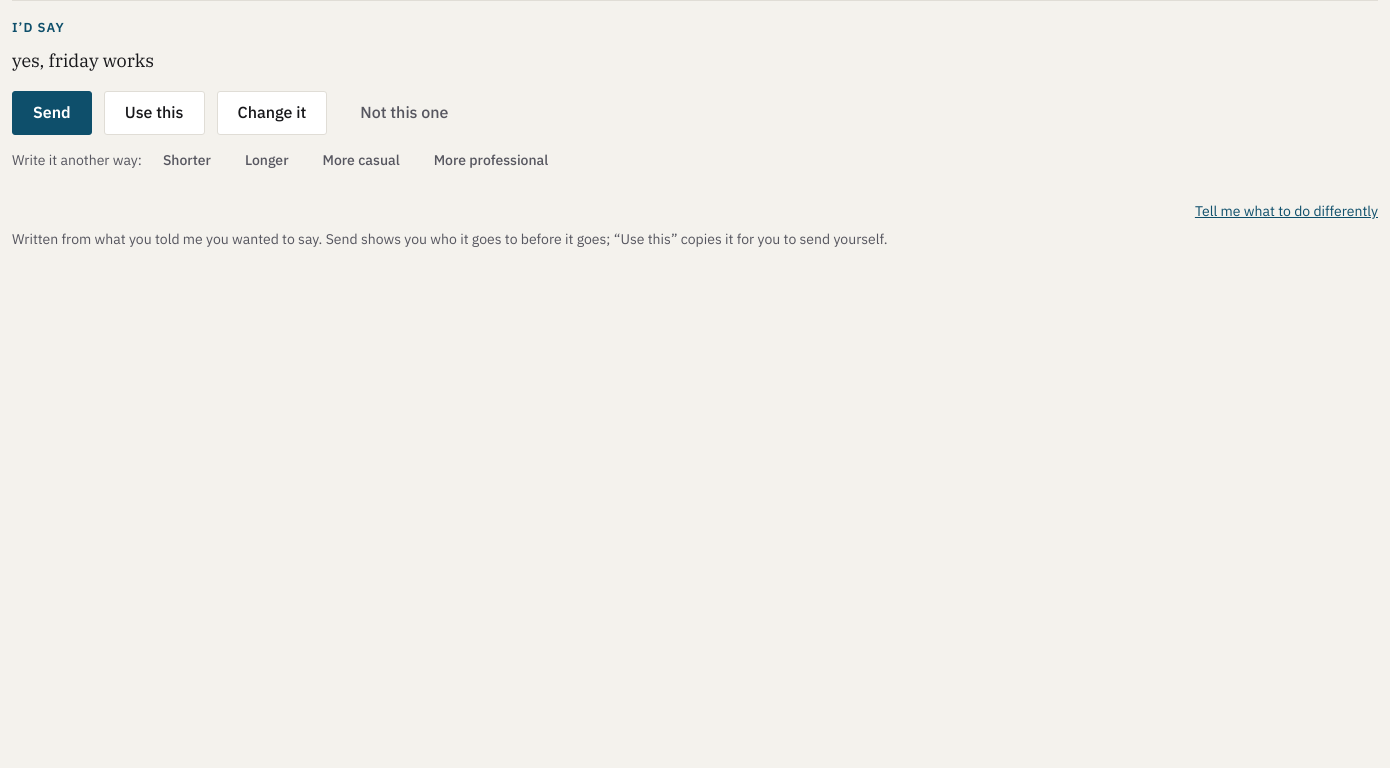
Test: sending a reply from Mimic › starts from the mailbox's own choice not to quote
Click the button "Send".
click(52, 113)  # box [12,91,92,135]
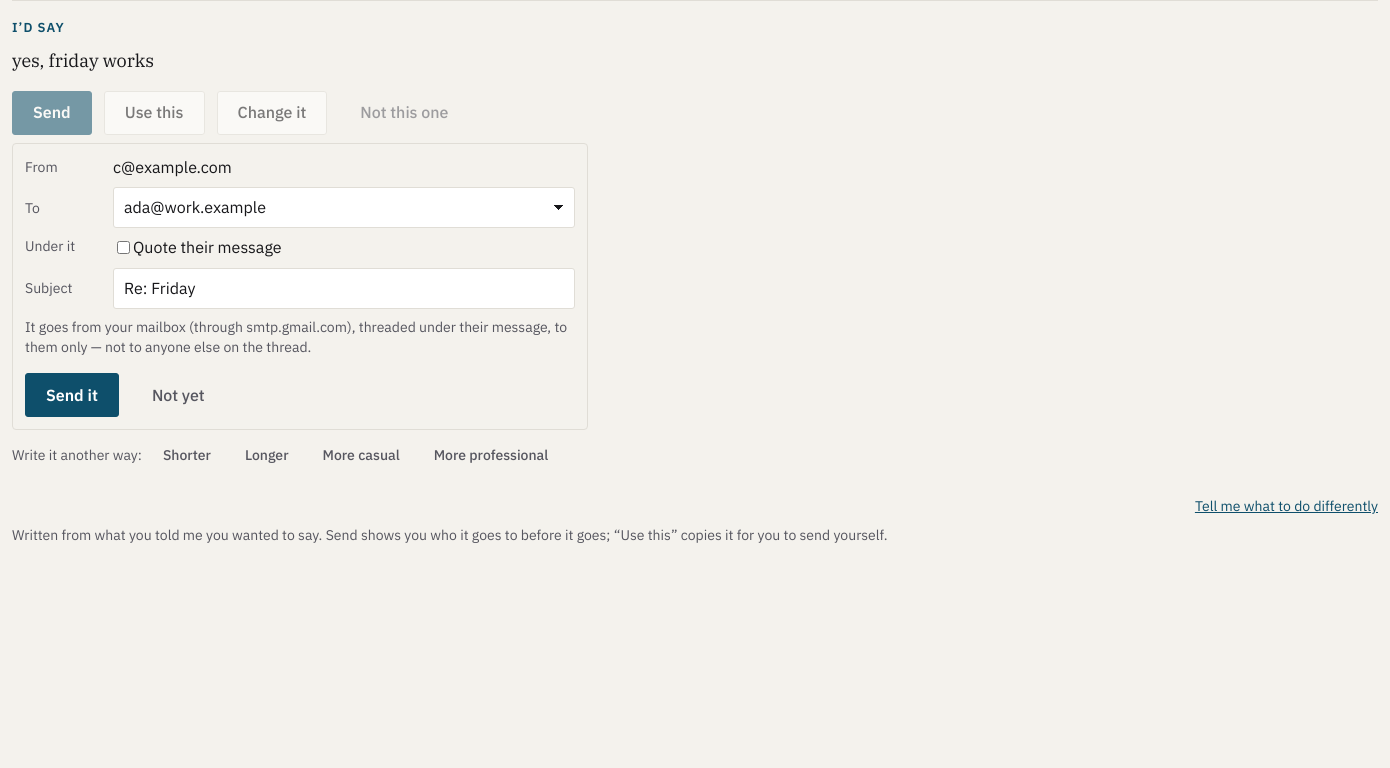
Now the checkbox labelled "Quote their message" is not checked, box [117,242,130,254]
